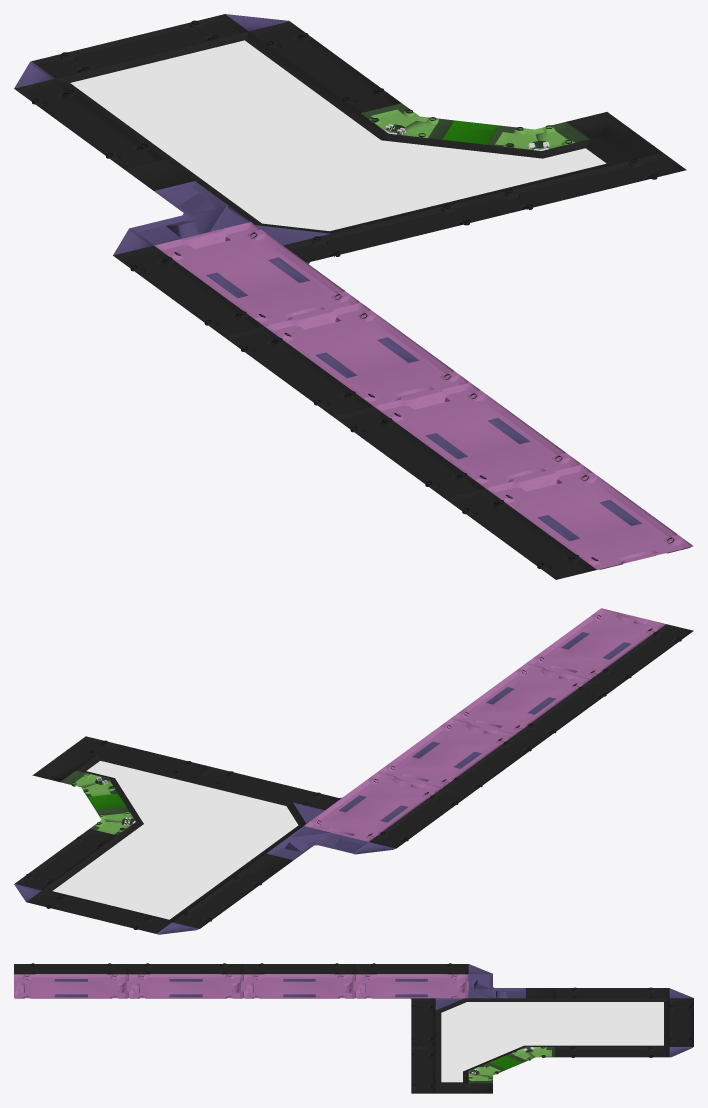
Rendered from Building_B_Room_B_Ceiling_A.fbx.
The picture shows the model from 3 angles, top to bottom: view 1: azimuth 30°, elevation 25°; view 2: azimuth 150°, elevation 25°; view 3: azimuth 270°, elevation 25°; orthographic projection. The views are drawn at different scales.
Parts seen in each view (by area): view 1: Geom_Building_B_Room_B_Ceiling_A_LOD00; view 2: Geom_Building_B_Room_B_Ceiling_A_LOD00; view 3: Geom_Building_B_Room_B_Ceiling_A_LOD00.
Part boxes in pixels (x1=…): Geom_Building_B_Room_B_Ceiling_A_LOD00: x1=14, y1=14, x2=693, y2=579; Geom_Building_B_Room_B_Ceiling_A_LOD00: x1=14, y1=608, x2=693, y2=934; Geom_Building_B_Room_B_Ceiling_A_LOD00: x1=14, y1=963, x2=693, y2=1093.
Size of what is drawn, in the model's own units: 2140 by 48.81 by 4740.
